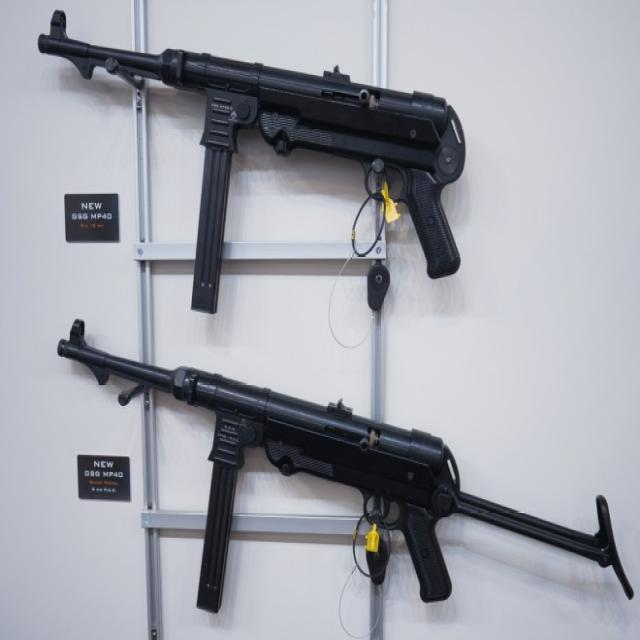SMG: (58, 321, 634, 615), (37, 12, 468, 314)
